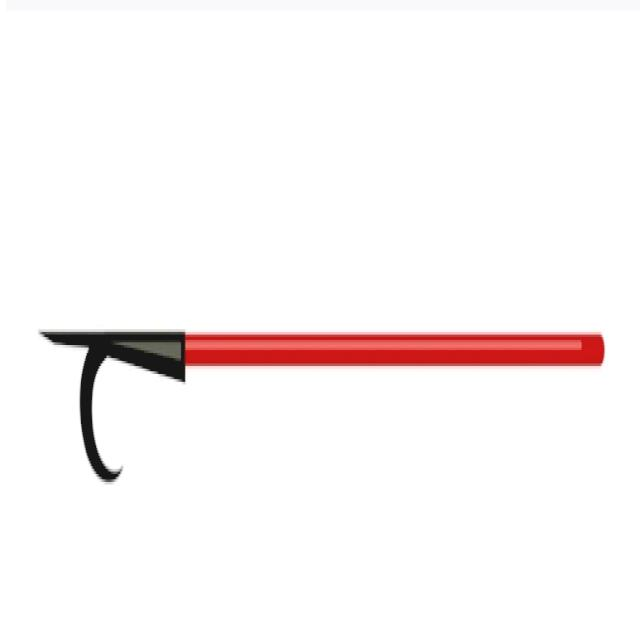spear: (29, 264, 612, 508)
